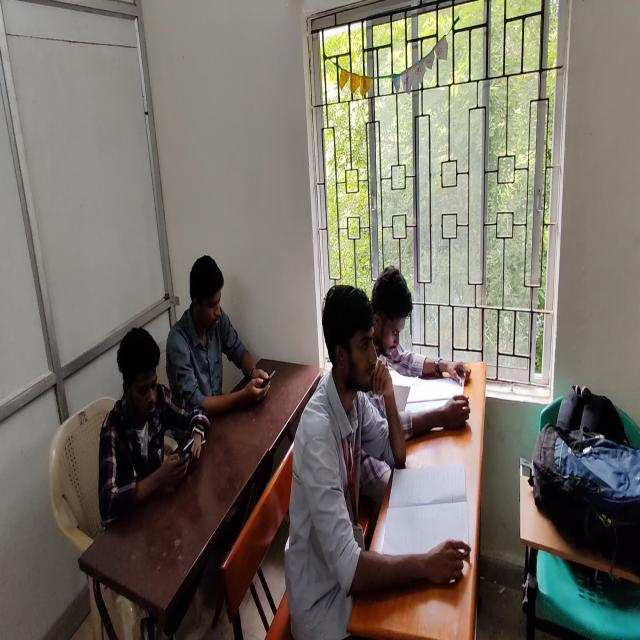reading: (299, 284, 459, 639), (371, 263, 470, 388)
using_mobile: (99, 325, 213, 528), (160, 249, 270, 435)
